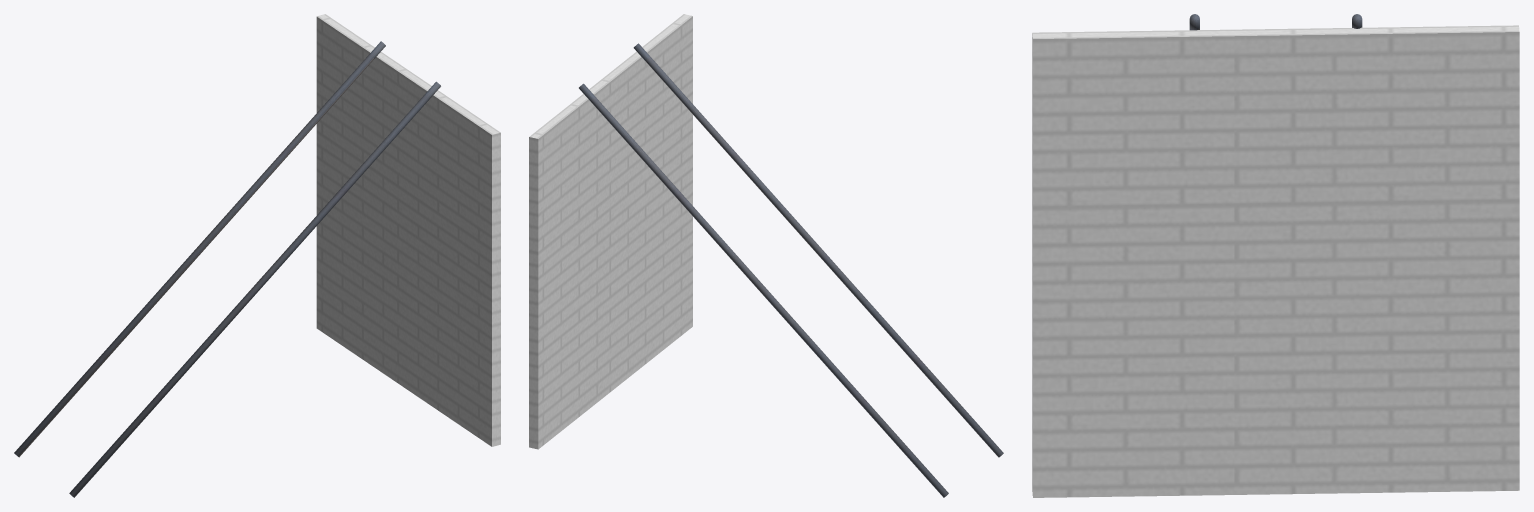
The model's file is qiang.gltf.
3 renders of one model, left to right at view 1: azimuth 30°, elevation 25°; view 2: azimuth 150°, elevation 25°; view 3: azimuth 270°, elevation 25°, orthographic. The views are drawn at different scales.
Parts seen in each view (by area): view 1: 对象001; view 2: 对象001; view 3: 对象001.
Part boxes in pixels (<box>): 对象001: <box>14,14,500,497</box>; 对象001: <box>529,14,1003,497</box>; 对象001: <box>1032,14,1519,497</box>.
Size of the model in its own units: 124 by 103 by 94.33.
1 material, 1 textured.
